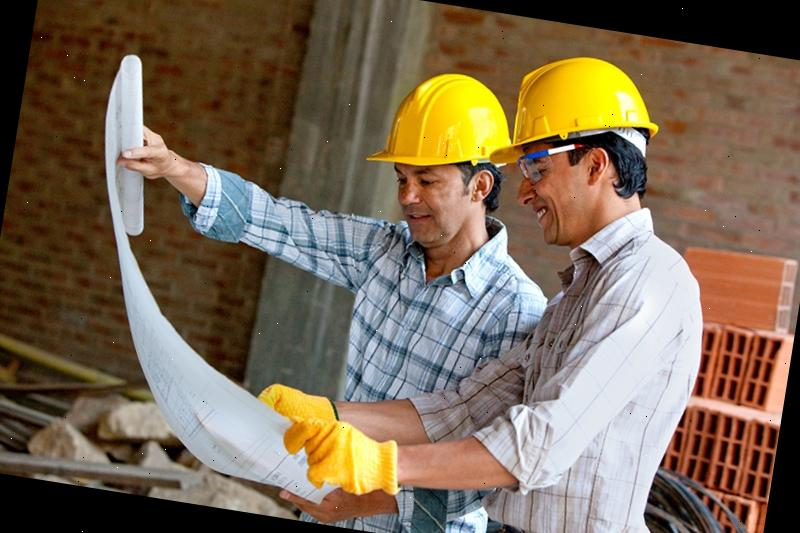helmet: (492, 42, 668, 188), (364, 60, 520, 186)
no_wear: (310, 232, 540, 533), (500, 248, 704, 533)
